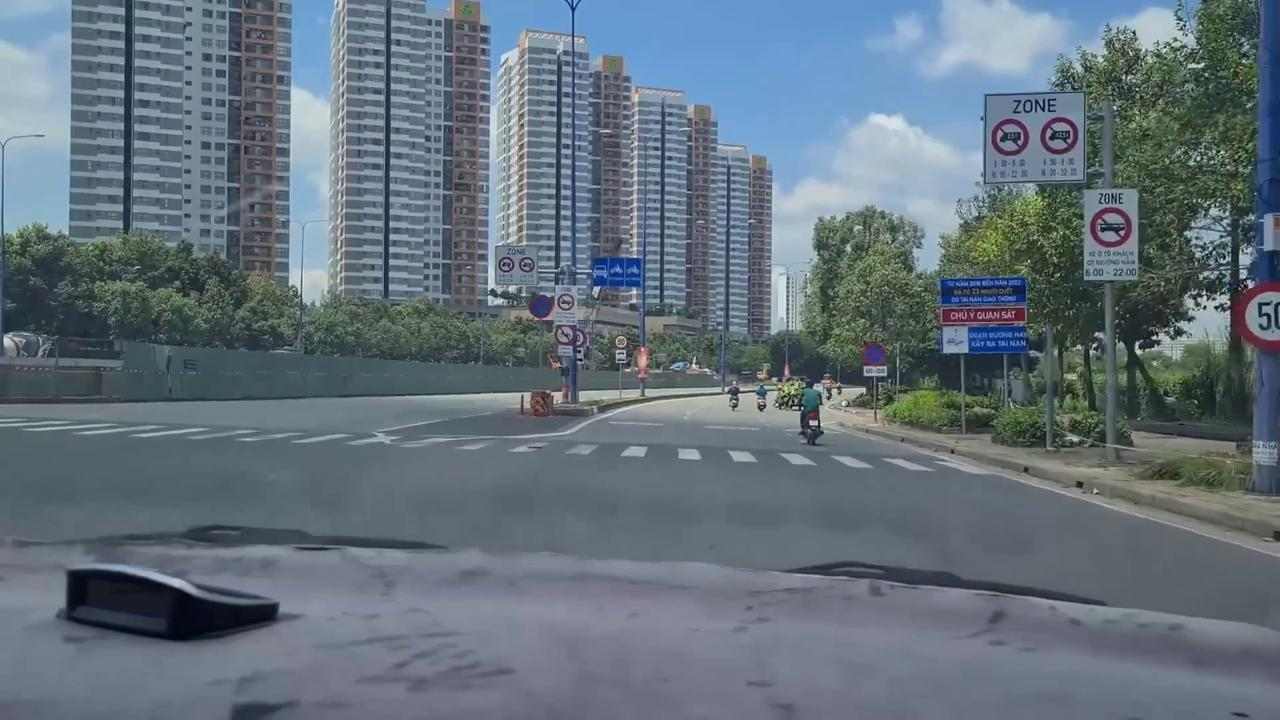Biển phụ: (863, 366, 888, 378), (615, 350, 626, 363)
Cấm cac phương tiện hoạt động trong khung giờ cố định: (982, 90, 1088, 182), (1081, 188, 1140, 282), (494, 244, 539, 286), (555, 284, 577, 327)
Cấm dừng - Cấm đỗ: (861, 342, 887, 367), (528, 293, 552, 319)
Cấm xe máy: (554, 325, 575, 346)
Giới hạn tốc độ 50Km/h: (1233, 279, 1280, 351)
Giới hạn tốc độ 80Km/h: (614, 334, 628, 349)
Khác: (936, 274, 1030, 354)
Làn đường cho từng xe: (590, 256, 642, 289)
